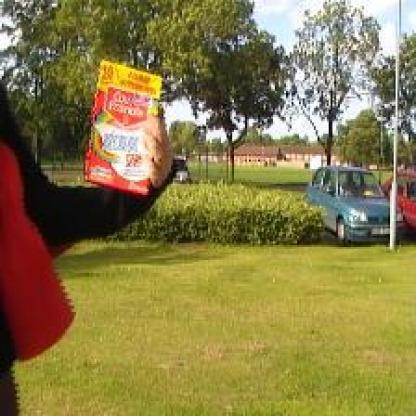other: (1, 148, 95, 355), (87, 51, 161, 191)
